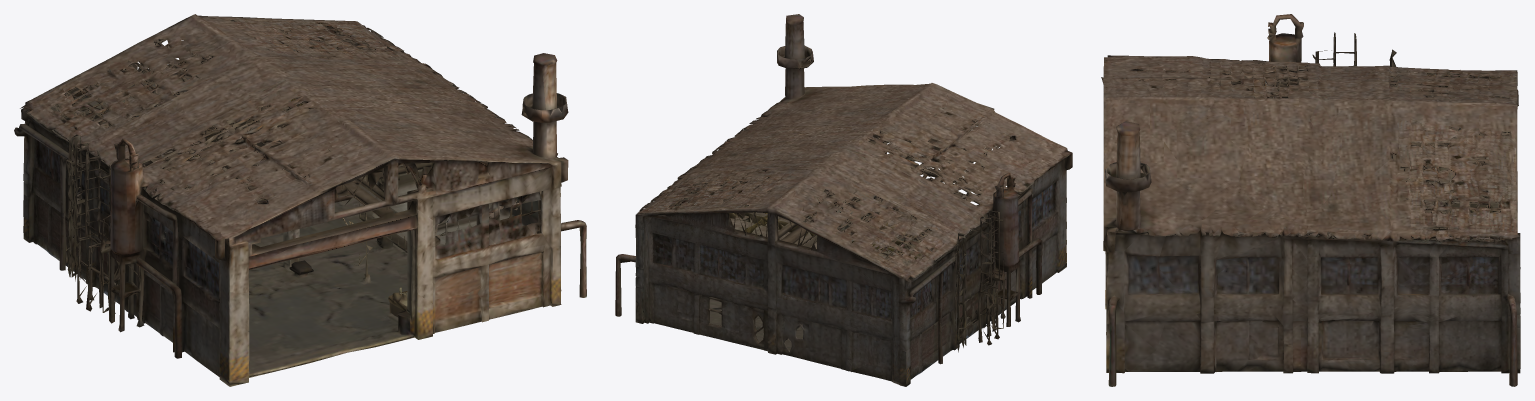
Rendered from industrial ruin 3d model.glb.
3 views of the same model, side by side, from view 1: azimuth 30°, elevation 25°; view 2: azimuth 150°, elevation 25°; view 3: azimuth 270°, elevation 25° (orthographic). The views are drawn at different scales.
Parts seen in each view (by area): view 1: tripo_node_4385ef64-aedc-4a88-8f10-387d590de6a1; view 2: tripo_node_4385ef64-aedc-4a88-8f10-387d590de6a1; view 3: tripo_node_4385ef64-aedc-4a88-8f10-387d590de6a1.
Part boxes in pixels (x1,y1,x2,y2): tripo_node_4385ef64-aedc-4a88-8f10-387d590de6a1: (14, 14, 586, 386); tripo_node_4385ef64-aedc-4a88-8f10-387d590de6a1: (615, 14, 1072, 386); tripo_node_4385ef64-aedc-4a88-8f10-387d590de6a1: (1101, 14, 1520, 386).
Size of the model in its own units: 0.9996 by 0.5884 by 0.9142.
Materials: 1 (1 with a texture image).
